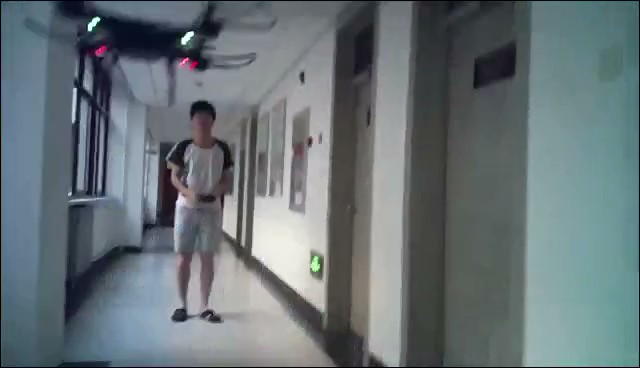drone: (1, 2, 281, 116)
person: (167, 98, 236, 324)
